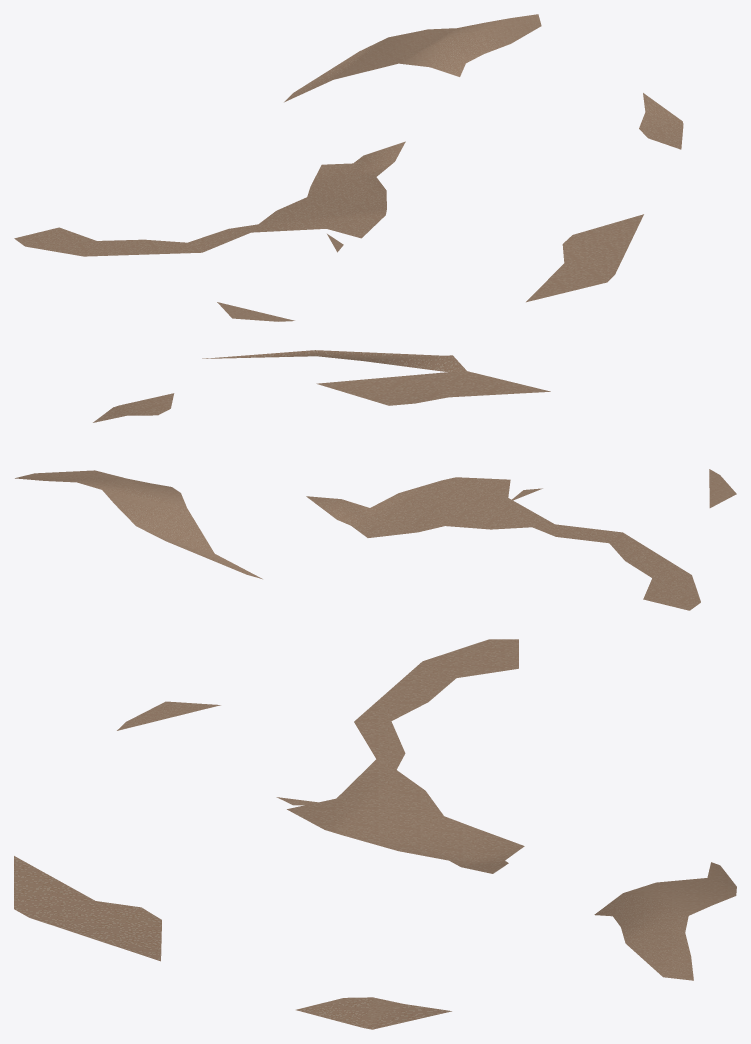
Rendered from kd_stage_13612f_0_5_bounded.glb.
3 views of the same model, one above another, from view 1: azimuth 30°, elevation 25°; view 2: azimuth 150°, elevation 25°; view 3: azimuth 270°, elevation 25° (orthographic). The views are drawn at different scales.
Parts seen in each view (by area): view 1: kd_stage_13612f_0_5_bounded; view 2: kd_stage_13612f_0_5_bounded; view 3: kd_stage_13612f_0_5_bounded.
Part boxes in pixels (x1,y1,x2,y2): kd_stage_13612f_0_5_bounded: (14,14,683,321); kd_stage_13612f_0_5_bounded: (15,350,736,610); kd_stage_13612f_0_5_bounded: (14,639,736,1029).
Size of the model in its own units: 86.27 by 6.03 by 65.82.
Materials: 1 (1 with a texture image).
